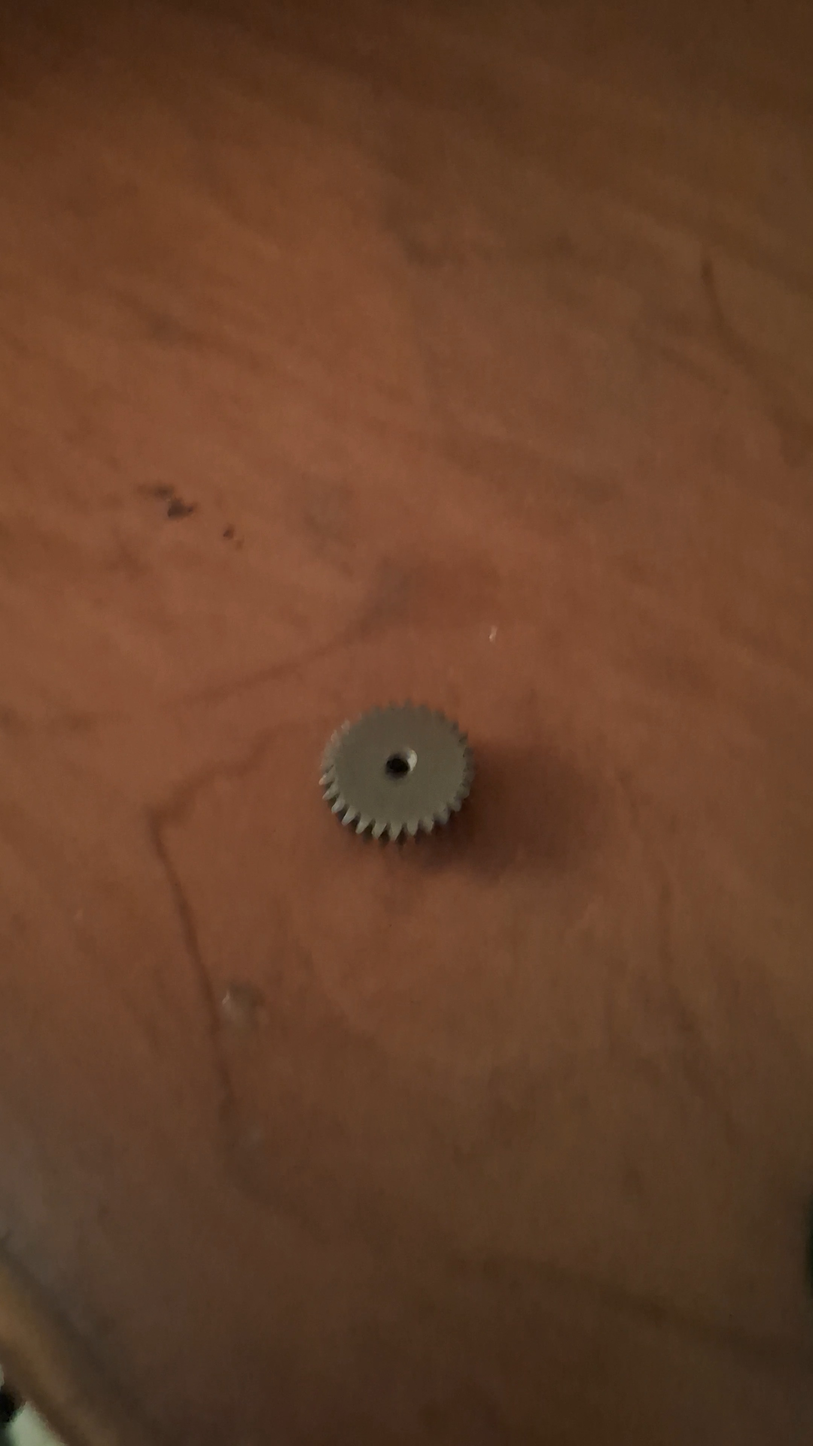spur gear: (321, 704, 473, 840)
